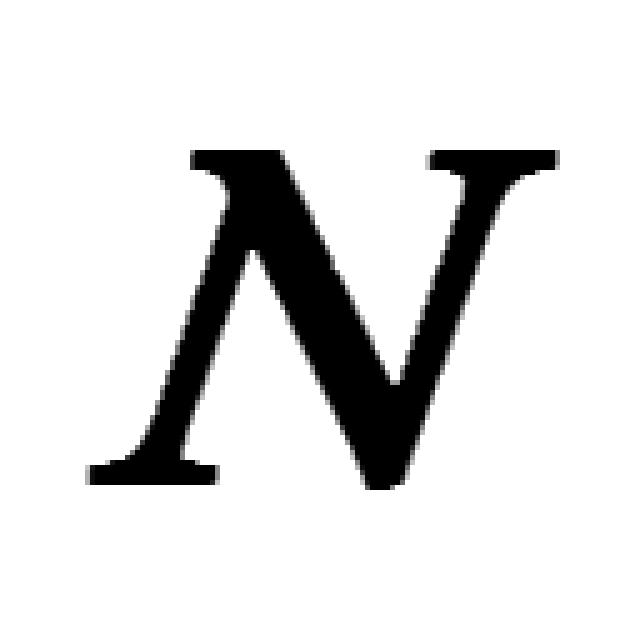N: (80, 130, 565, 500)
